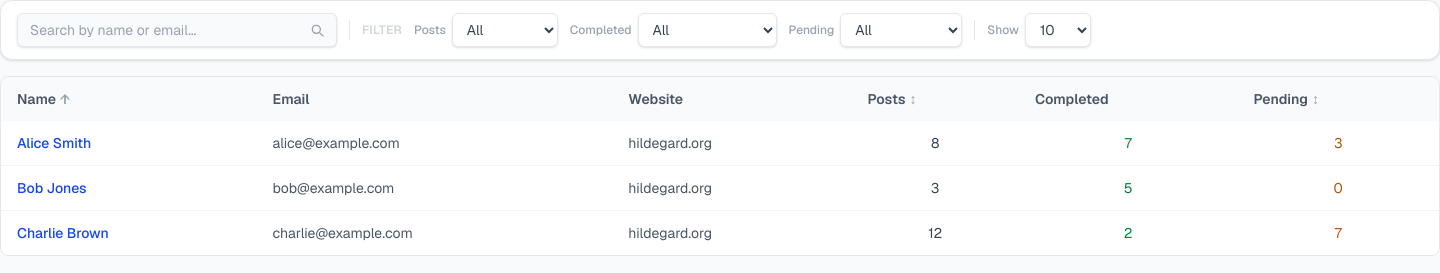
Test: UsersClient › filters list by email search
Type "bob@" into the search field at (177, 30), box [17, 13, 337, 47]
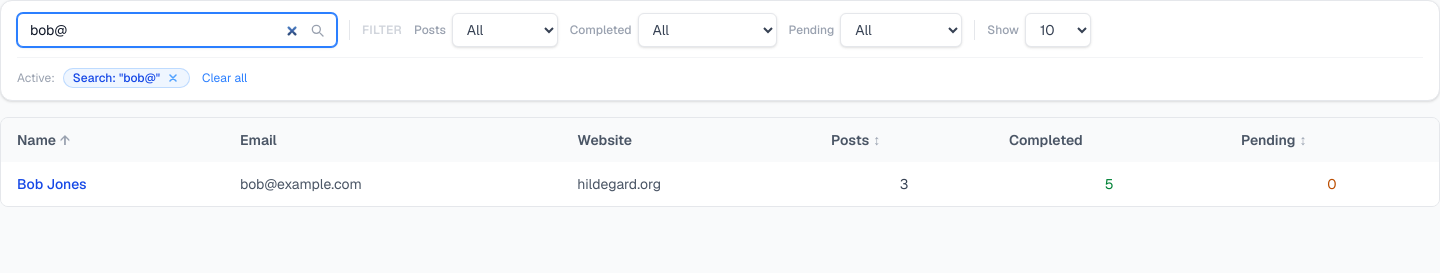
Expected: the link "Bob Jones" is shown, [17, 175, 87, 193]
Now the link "Alice Smith" is gone
